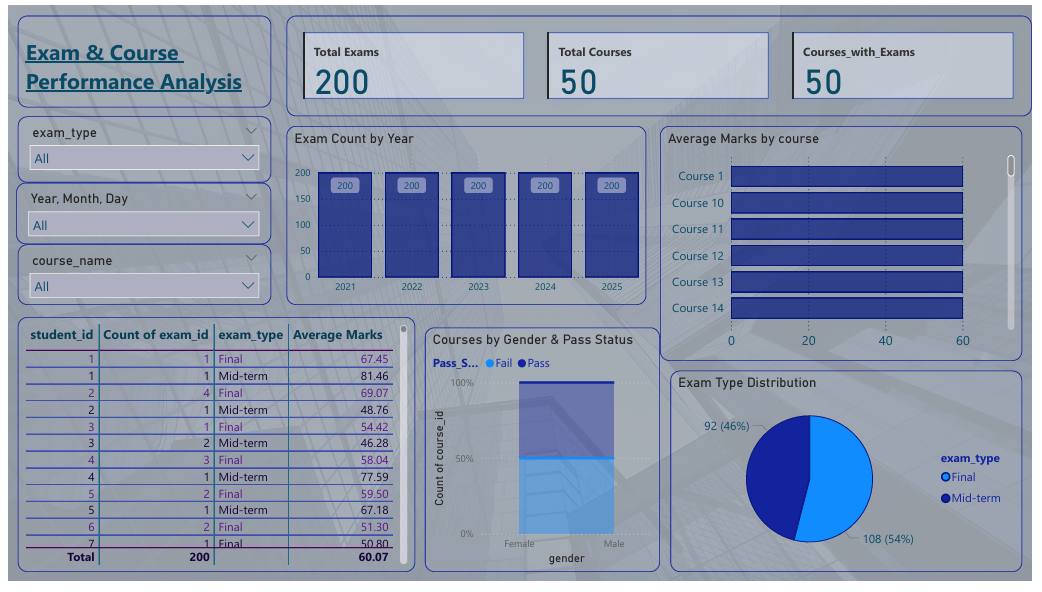

This screenshot's page, from the dashboard's own definition file:
{"tool":"powerbi","page":{"name":"Exam & Course","canvas":[1280,720],"ordinal":4},"visuals":[{"type":"textbox","box":[11.8,13.4,317.5,114.2],"z":0},{"type":"cardVisual","fields":{"Data":["exams.Total Exams","courses.Total Courses","exams.Courses_with_Exams"]},"box":[347.7,13.4,932.3,126],"z":1},{"type":"barChart","title":"Average Marks by course","fields":{"Y":["marks.Average Marks"],"Category":["courses.course_name"]},"box":[814.7,151.2,453.5,294],"z":2},{"type":"pieChart","title":"Exam Type Distribution","fields":{"Category":["exams.exam_type"],"Y":["CountNonNull(exams.exam_id)"]},"box":[828.1,456.9,440.1,252],"z":3},{"type":"tableEx","fields":{"Values":["students.student_id","marks.exam_id","exams.exam_type","marks.Average Marks"]},"box":[11.8,389.7,497.2,319.2],"z":4},{"type":"hundredPercentStackedAreaChart","title":"Courses by Gender & Pass Status","fields":{"Category":["students.gender"],"Y":["Count(courses.course_id)"],"Series":["marks.Pass_Status"]},"box":[520.7,403.1,294,305.7],"z":5},{"type":"columnChart","title":"Exam Count by Year","fields":{"Category":["students.enrollment_date.Variation.Date Hierarchy.Year"],"Y":["CountNonNull(exams.exam_id)"]},"box":[347.7,151.2,450.2,223.4],"z":6},{"type":"slicer","fields":{"Values":["exams.exam_type"]},"box":[11.8,139.4,317.5,82.3],"z":7},{"type":"slicer","fields":{"Values":["students.enrollment_date.Variation.Date Hierarchy.Year","students.enrollment_date.Variation.Date Hierarchy.Month","students.enrollment_date.Variation.Date Hierarchy.Day"]},"box":[10.1,221.7,319.2,77.3],"z":8},{"type":"slicer","fields":{"Values":["courses.course_name"]},"box":[11.8,299,317.5,75.6],"z":9}]}

Visuals, with their boxes in screenshot pixels (x1, y1, x2, y2), scaled from the page's 1280x720 canvas onto the 1042x592 screenshot:
textbox: l=10, t=11, r=268, b=105
cardVisual - exams.Total Exams x courses.Total Courses: l=283, t=11, r=1041, b=115
"Average Marks by course" barChart: l=663, t=124, r=1032, b=366
"Exam Type Distribution" pieChart: l=674, t=376, r=1032, b=583
tableEx - students.student_id x marks.exam_id: l=10, t=320, r=414, b=583
"Courses by Gender & Pass Status" hundredPercentStackedAreaChart: l=424, t=331, r=663, b=583
"Exam Count by Year" columnChart: l=283, t=124, r=650, b=308
slicer - exams.exam_type: l=10, t=115, r=268, b=182
slicer - students.enrollment_date.Variation.Date Hierarchy.Year x students.enrollment_date.Variation.Date Hierarchy.Month: l=8, t=182, r=268, b=246
slicer - courses.course_name: l=10, t=246, r=268, b=308
